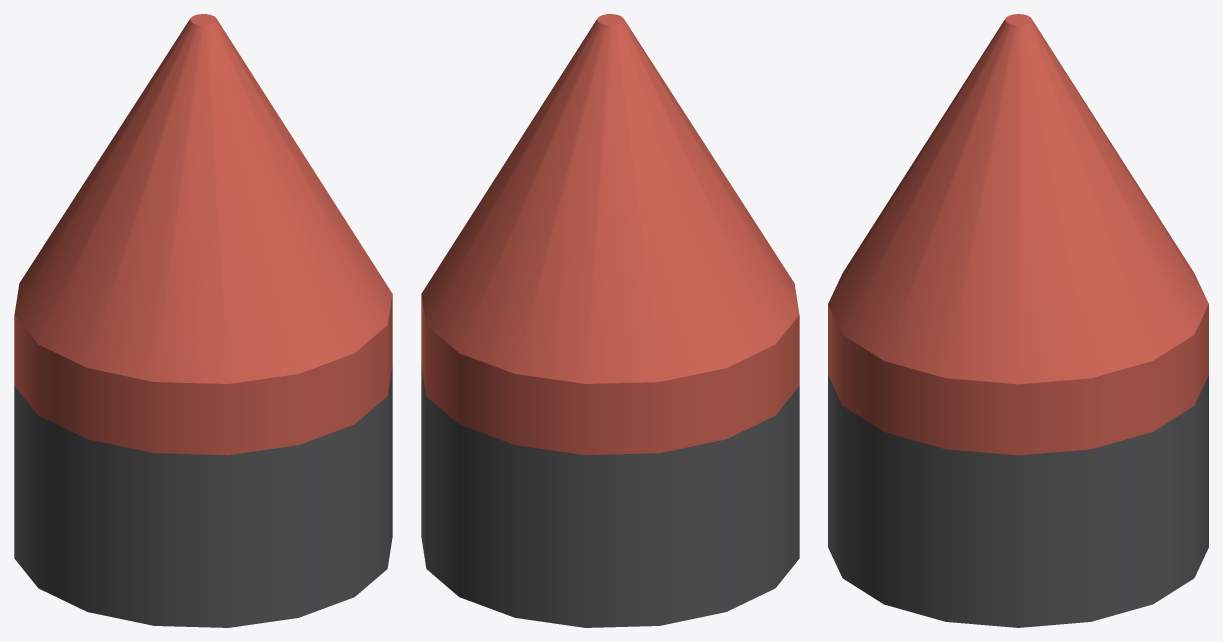
Rendered from buoy-conical-red.glb.
3 views of the same model, side by side, from view 1: azimuth 30°, elevation 25°; view 2: azimuth 150°, elevation 25°; view 3: azimuth 270°, elevation 25° (orthographic).
Visible parts, largest first — view 1: buoy-conical-red; view 2: buoy-conical-red; view 3: buoy-conical-red.
Part boxes in pixels (x1,y1,x2,y2): buoy-conical-red: [14, 14, 392, 627]; buoy-conical-red: [421, 14, 799, 627]; buoy-conical-red: [828, 14, 1208, 627].
Bounding box in the file's own units: 1.7 × 2.6 × 1.7.
